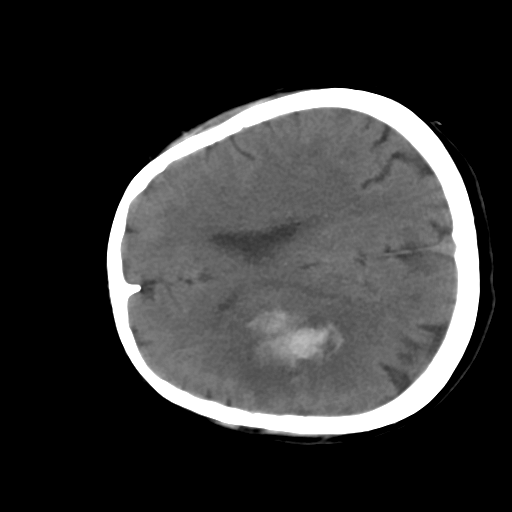a: (209, 285, 373, 400)
